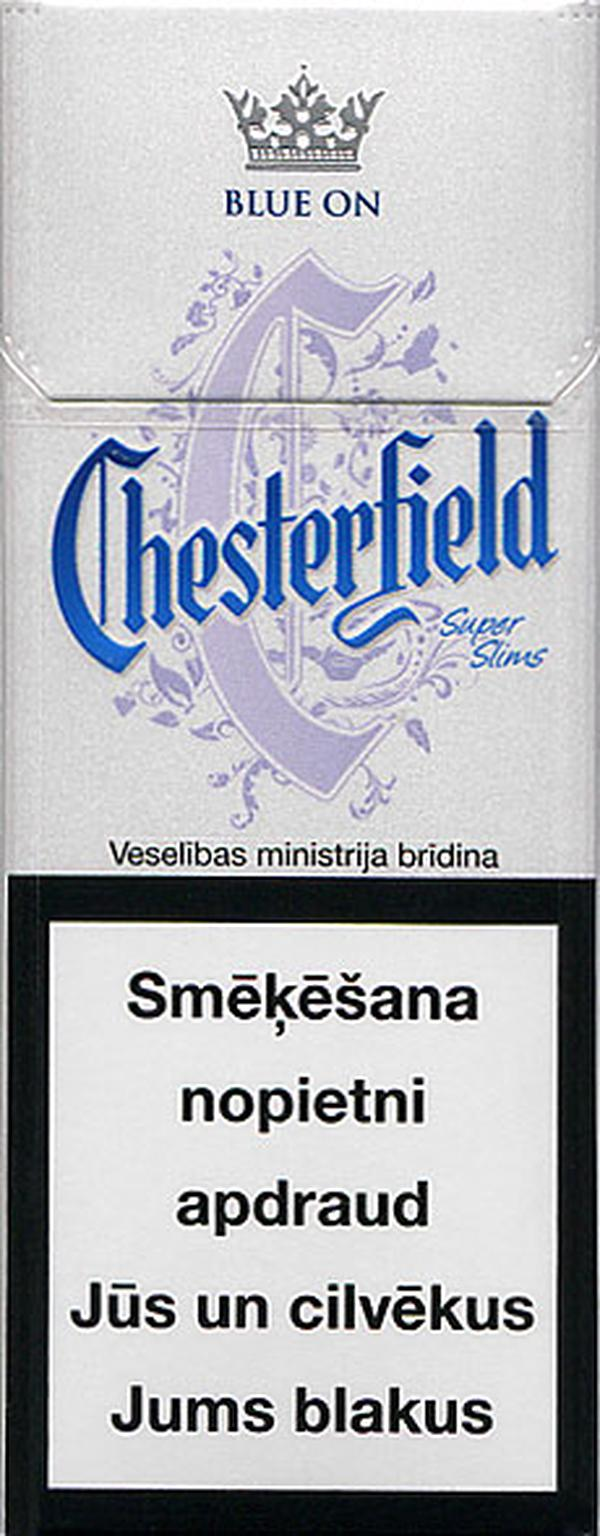chesterfield_blue: (2, 9, 598, 879)
